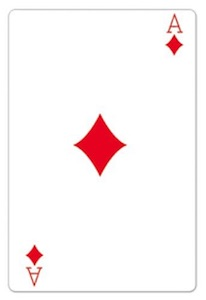AceOfDiamonds: (7, 7, 199, 294)
